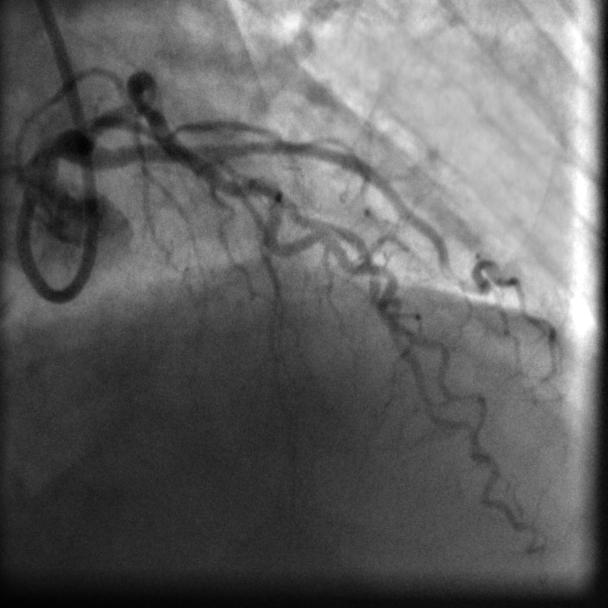Stenosis: (131, 80, 157, 126)
